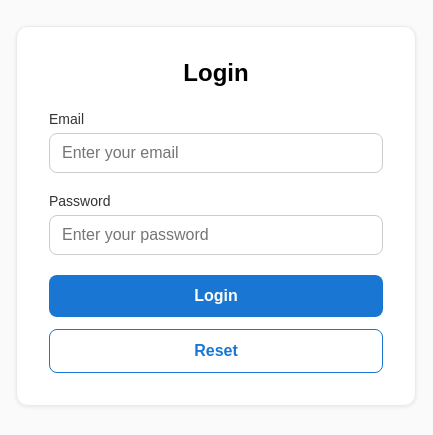
Test case: Login Page › validates on blur — blurring an empty email field shows the email error
Click the field labelled "Email": (216, 153) [49,133,383,173]
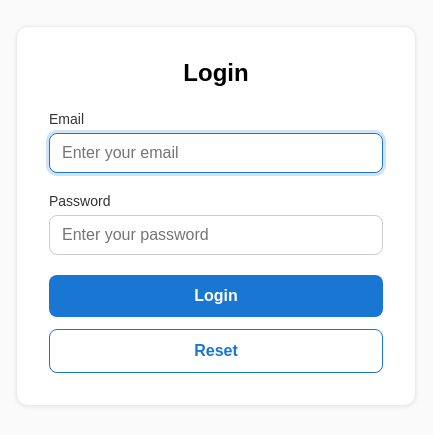
Press Tab
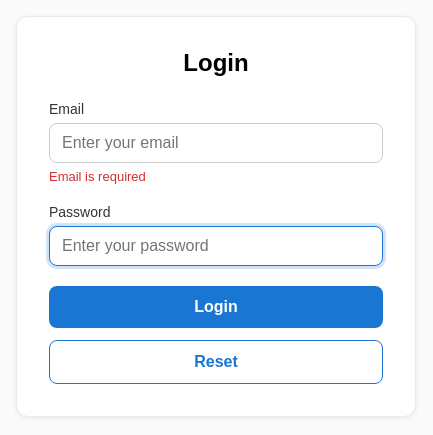
Now the text "Email is required" is shown, box [49,168,146,184]
